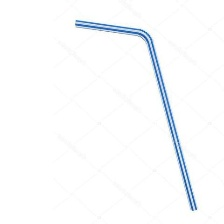drinking_straw: (70, 14, 203, 215)
